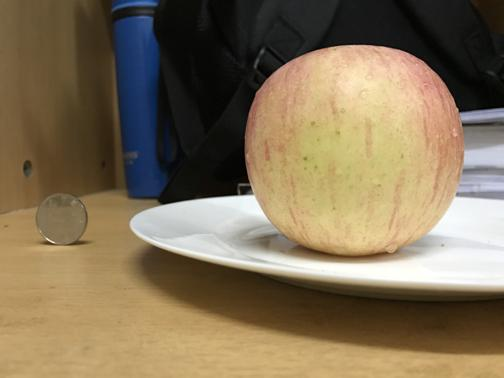apple: (243, 45, 465, 257)
coin: (33, 192, 88, 246)
